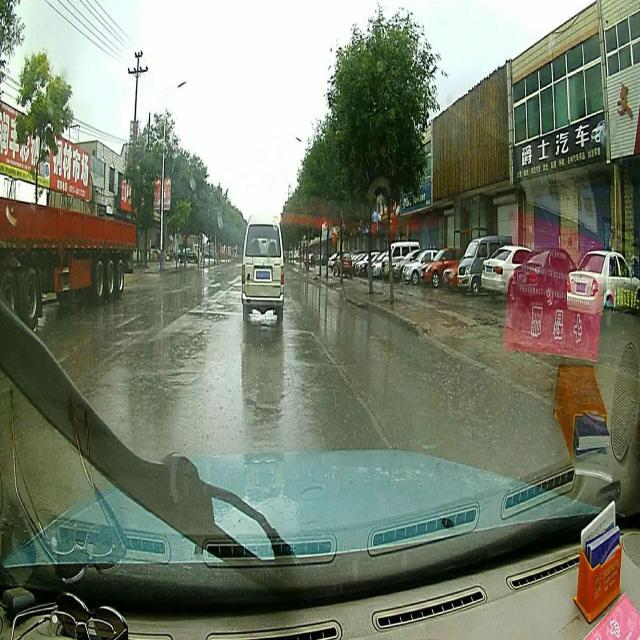car: (241, 213, 285, 322)
